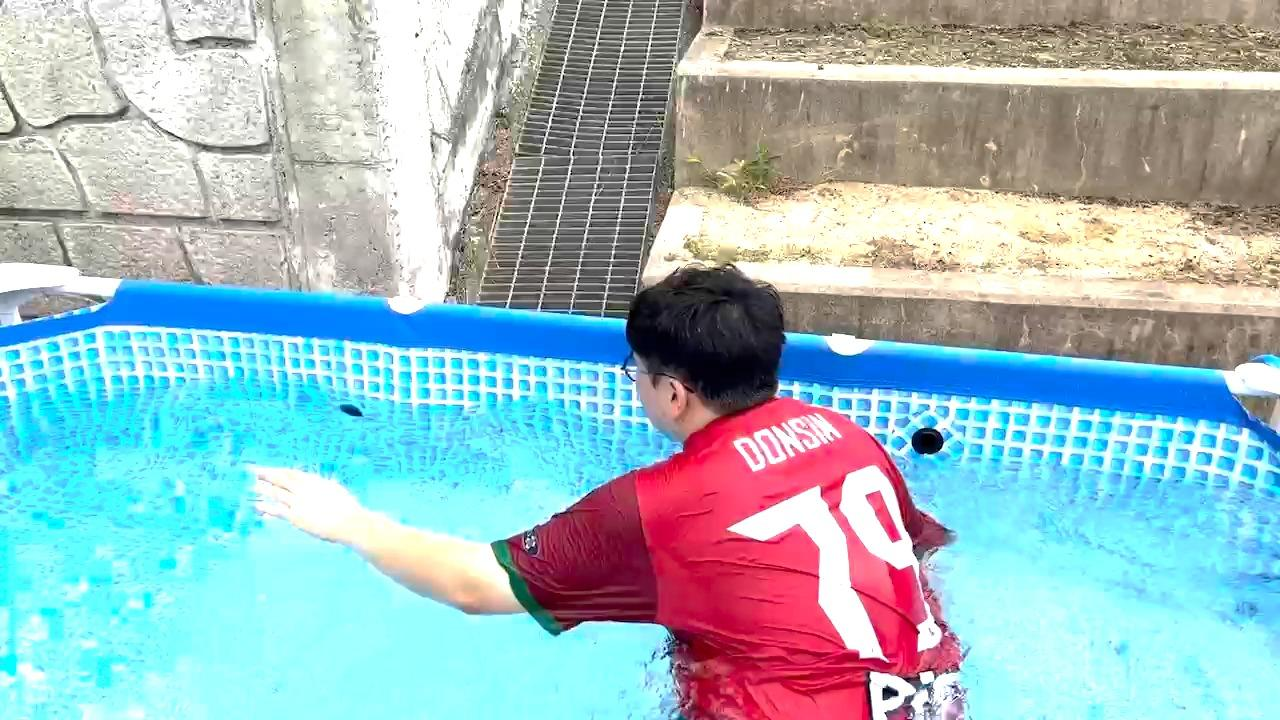Swimming: (190, 199, 1016, 720)
